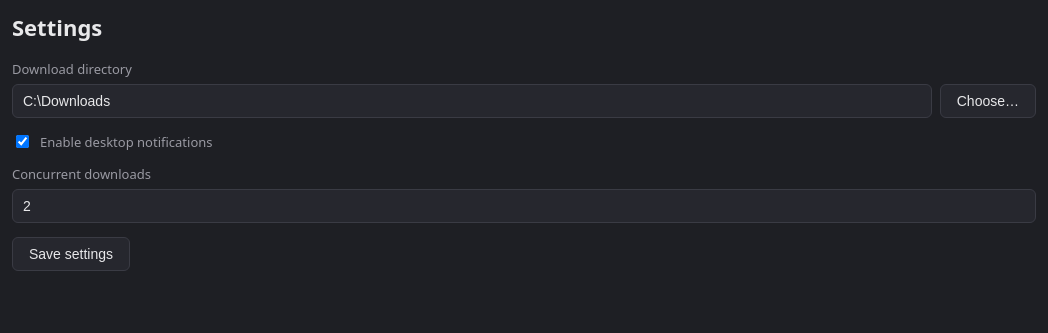
it: SettingsPage › keeps the form visible with an inline alert when saving fails
Check: the field labelled "Download directory" holds "C:\\Downloads", box [12,84,932,118]
Click the button "Save settings" at (71, 254), box [12,237,130,271]
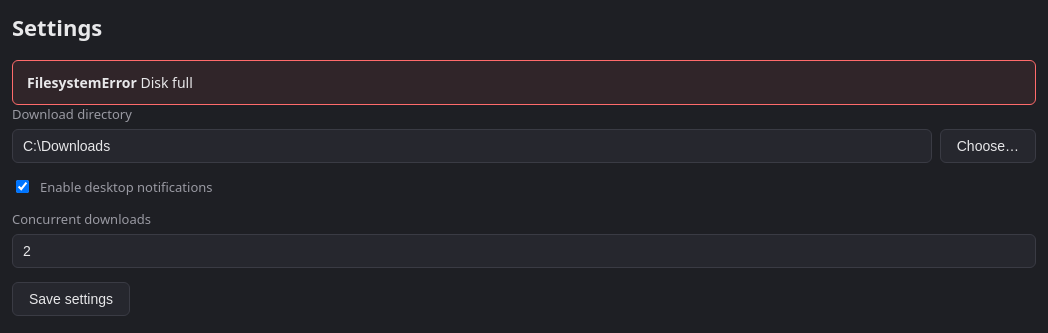
Check: the field labelled "Download directory" is shown, box [12,129,932,163]
Check: the message shows "FilesystemError", box [27,73,137,92]
